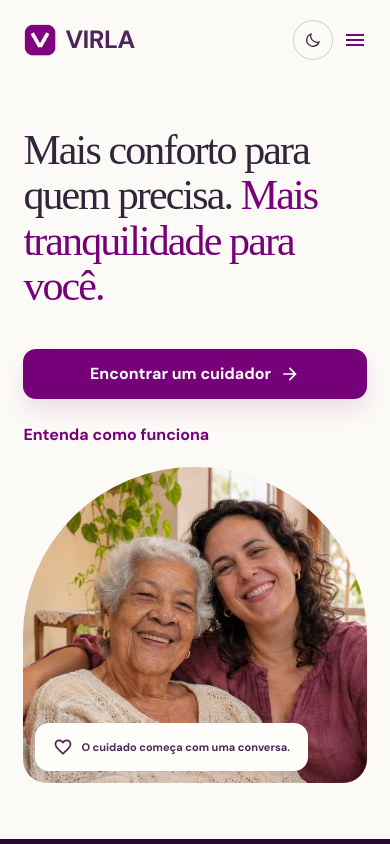
Test case: Landing › abre o menu no celular
Click the button named "Abrir menu".
click(355, 40)  # box x1=343 y1=28 x2=367 y2=52
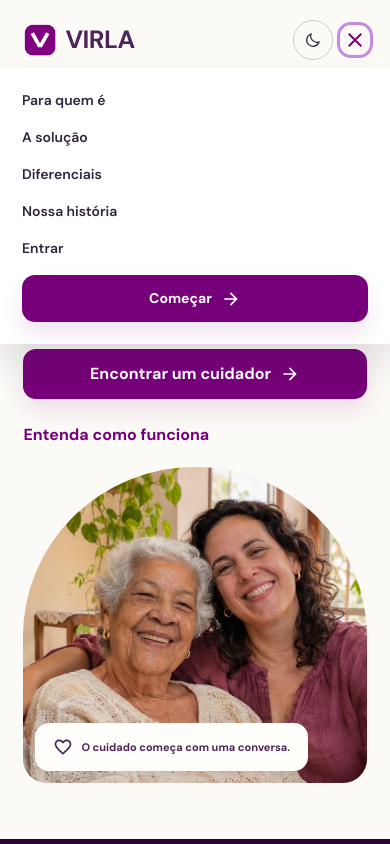
Now the button named "Fechar menu" is expanded, box x1=343 y1=28 x2=367 y2=52
